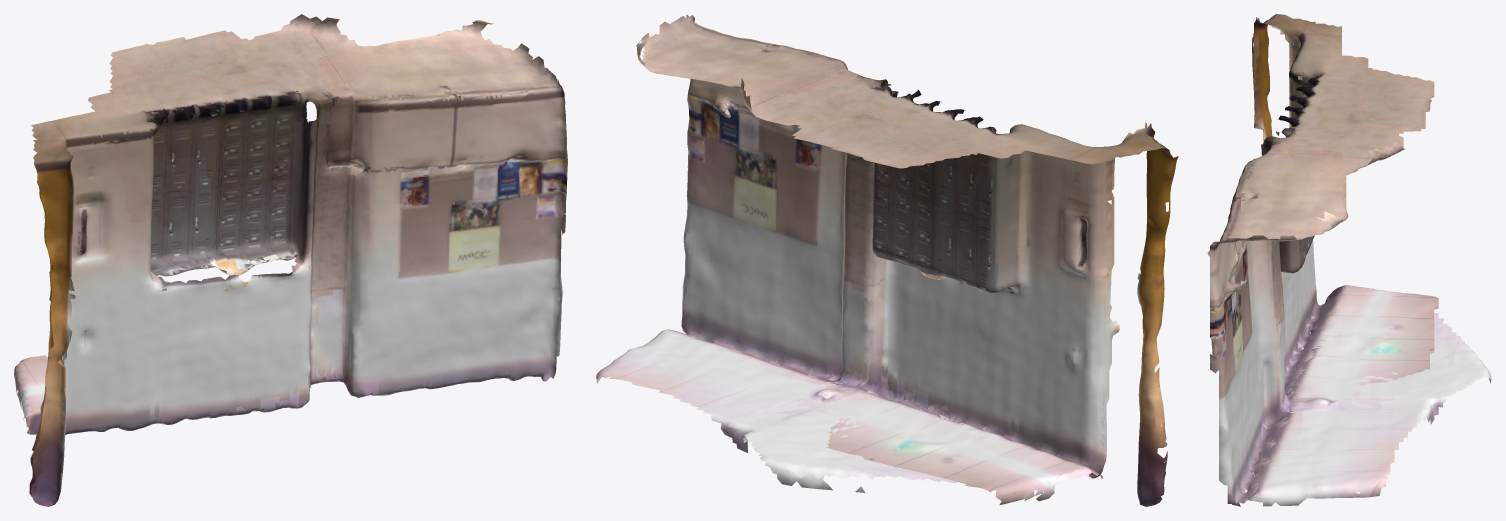
The model's file is Disc5.obj.
3 views of the same model, side by side, from view 1: azimuth 30°, elevation 25°; view 2: azimuth 150°, elevation 25°; view 3: azimuth 270°, elevation 25° (orthographic). The views are drawn at different scales.
Bounding box in the file's own units: 6.76 × 4.73 × 3.75.
Materials: 1 (1 with a texture image).
